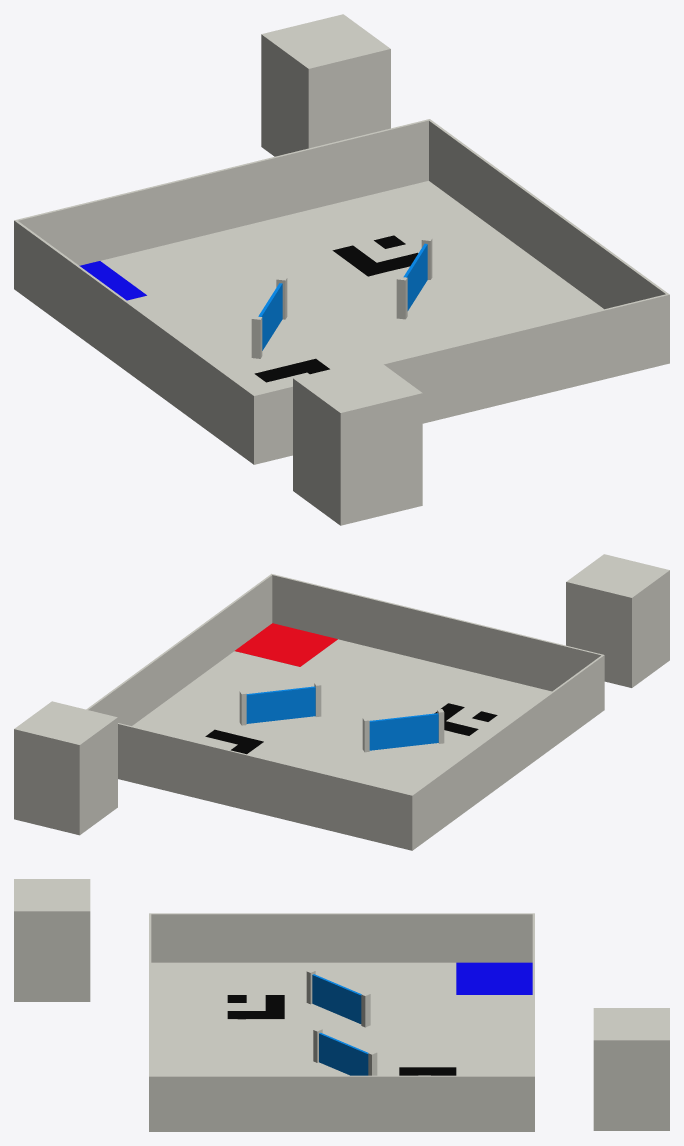
The model's file is auto_world.dae.
The picture shows the model from 3 angles, top to bottom: view 1: azimuth 30°, elevation 25°; view 2: azimuth 150°, elevation 25°; view 3: azimuth 270°, elevation 25°; orthographic projection. The views are drawn at different scales.
Parts seen in each view (by area): view 1: Cube; view 2: Cube; view 3: Cube.
Boxes of the visible parts, left/top/right/bottom form: Cube: left=14, top=14, right=669, bottom=525; Cube: left=14, top=554, right=669, bottom=850; Cube: left=14, top=879, right=669, bottom=1131.
Bounding box in the file's own units: 5.06 × 8.6 × 1.31.
